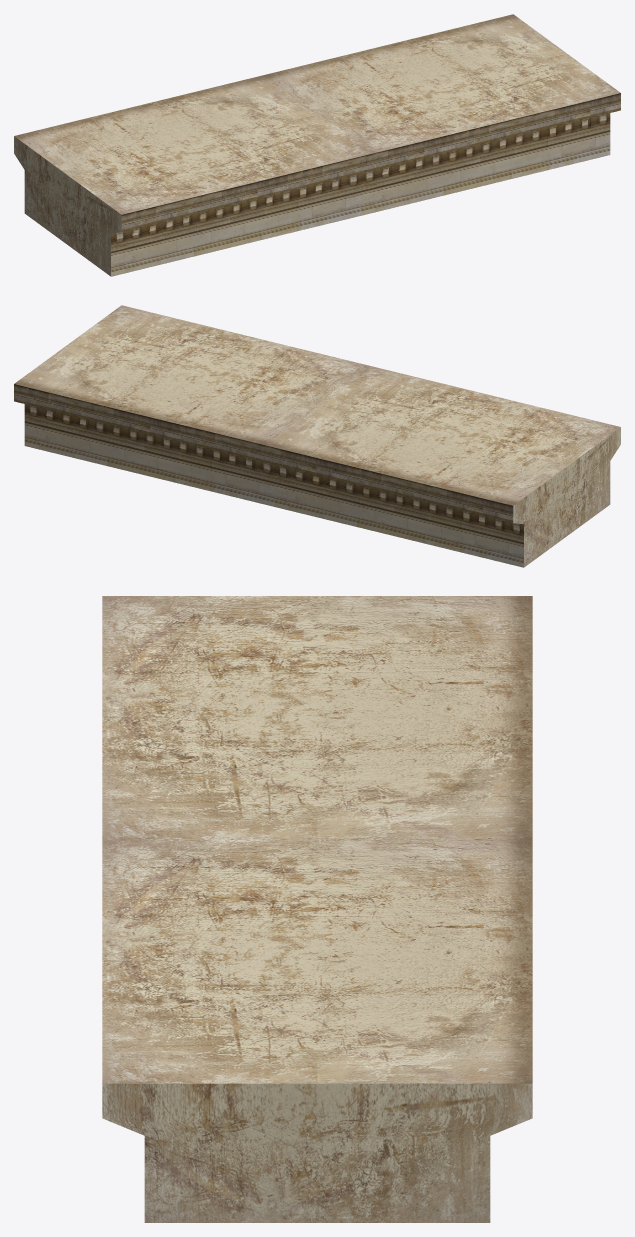
File: svpergola2.dae
The picture shows the model from 3 angles, top to bottom: view 1: azimuth 30°, elevation 25°; view 2: azimuth 150°, elevation 25°; view 3: azimuth 270°, elevation 25°; orthographic projection. The views are drawn at different scales.
Visible parts, largest first — view 1: cube4_sep14-0; view 2: cube4_sep14-0; view 3: cube4_sep14-0.
Boxes of the visible parts, x1=… form: cube4_sep14-0: x1=14, y1=14, x2=620, y2=276; cube4_sep14-0: x1=14, y1=305, x2=620, y2=567; cube4_sep14-0: x1=102, y1=596, x2=532, y2=1222.
Size of the model in its own units: 600 by 80 by 224.
